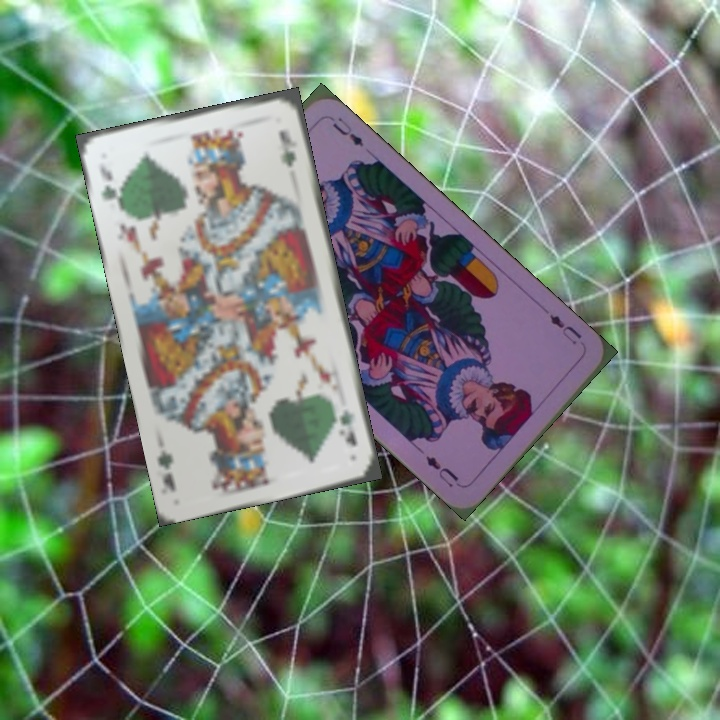EU: (545, 310, 585, 348)
GK: (95, 159, 125, 211), (335, 405, 360, 449)
